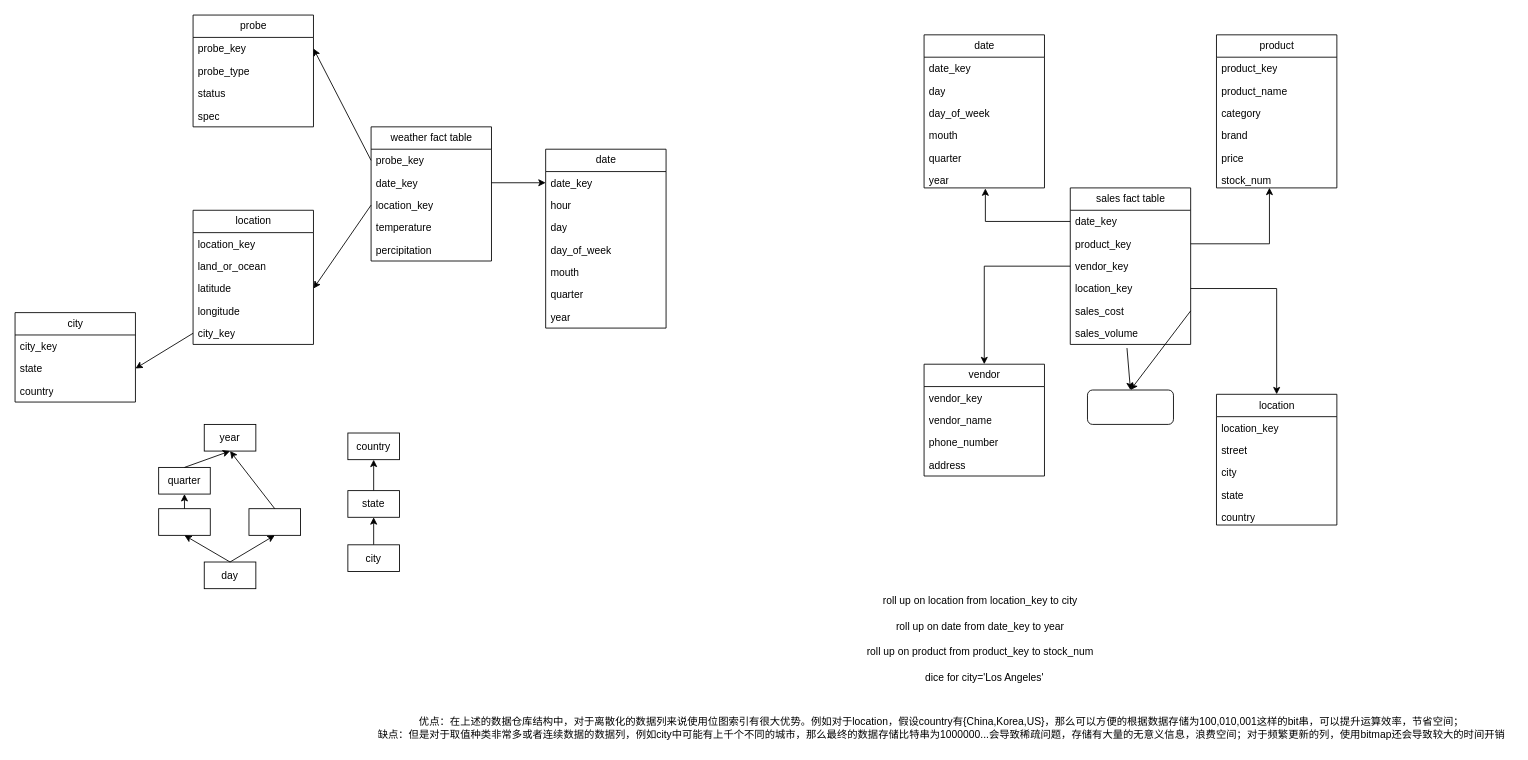
Image size: 1528x760. Some labels were removed from this diagram. Here are the shapes that lost their labels. From the top down, the centre of each, then its label:
At pixel 1130 406: "Measures".
At pixel 184 521: "month".
At pixel 274 521: "week".
